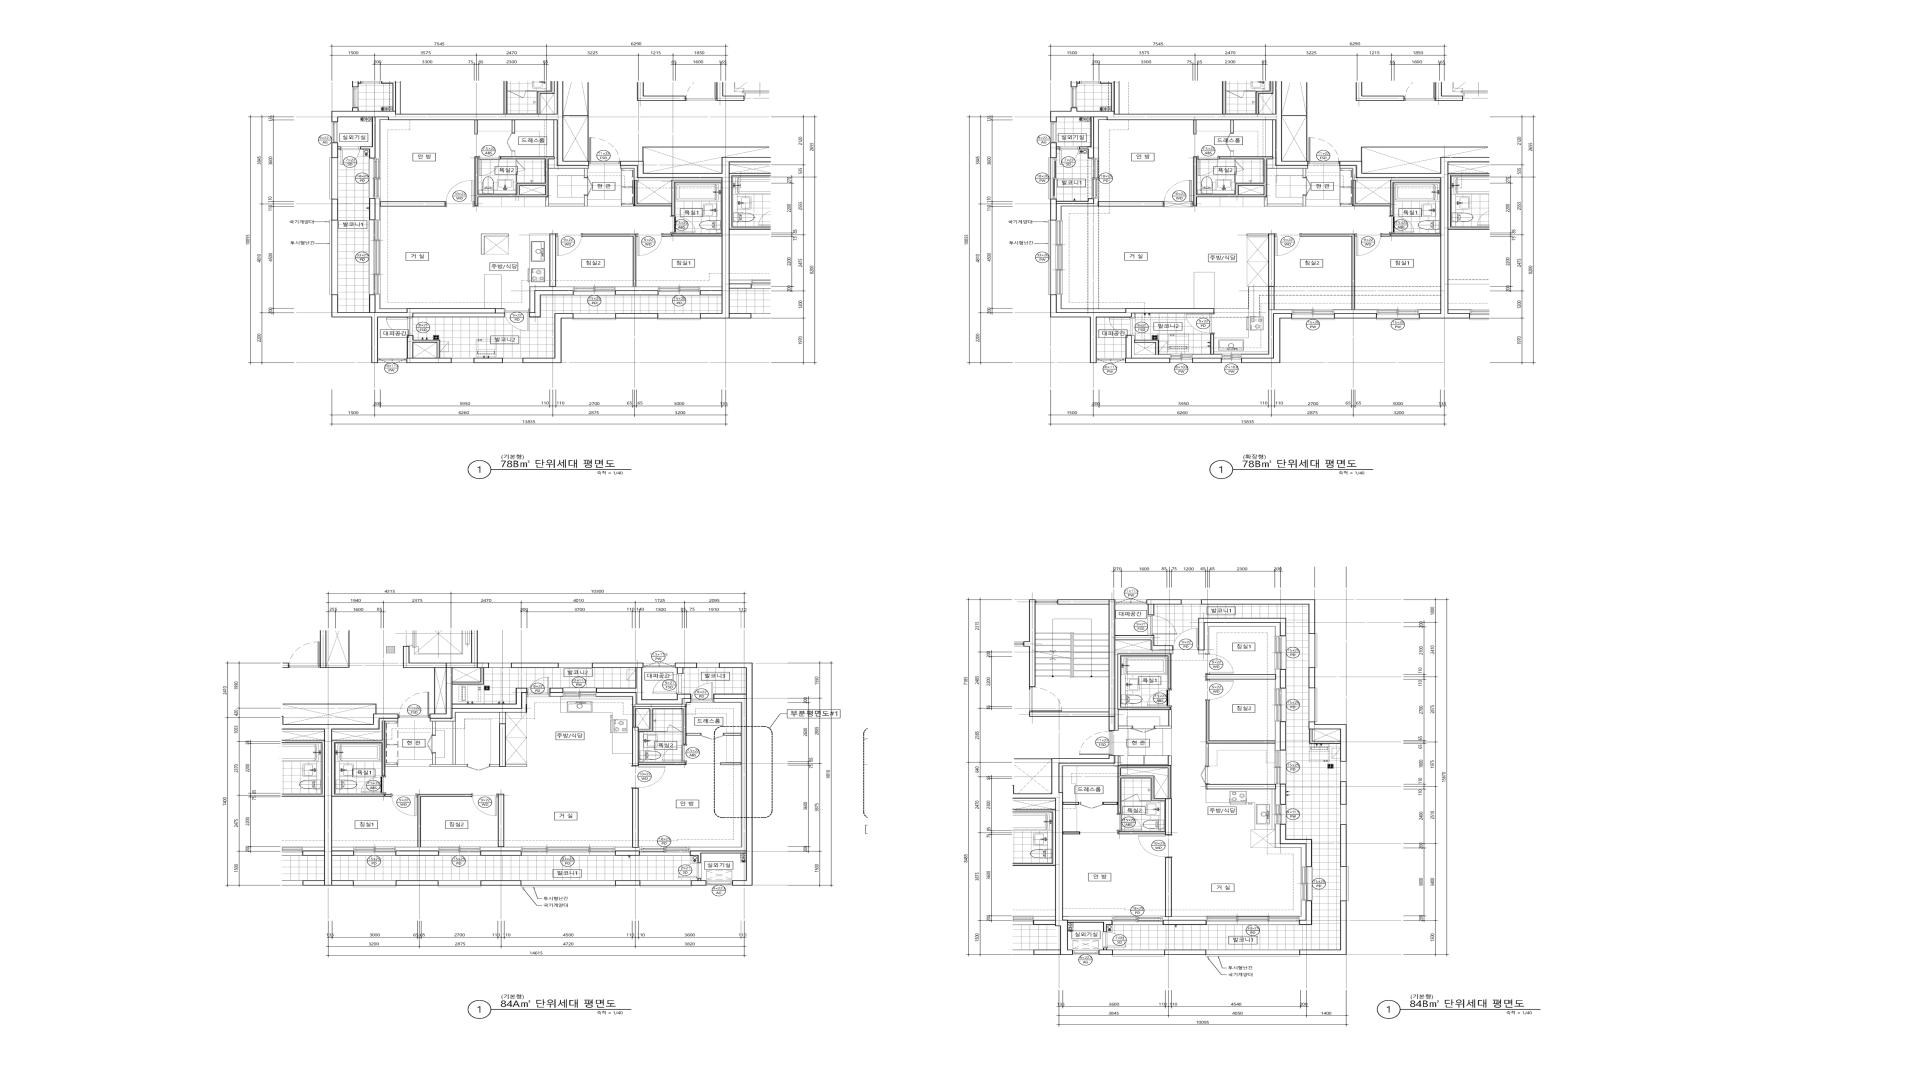door: (1308, 137, 1340, 164), (1029, 687, 1062, 712), (589, 137, 620, 164), (1163, 181, 1193, 207), (398, 692, 430, 717), (1080, 731, 1112, 756), (1138, 835, 1172, 857), (446, 181, 475, 207), (632, 766, 665, 789), (390, 794, 418, 816), (653, 674, 683, 694), (472, 794, 498, 816), (1172, 628, 1199, 650), (636, 233, 662, 256), (1275, 233, 1302, 256), (1356, 233, 1382, 256), (1205, 679, 1233, 700), (1185, 314, 1215, 334), (1147, 616, 1176, 636), (556, 233, 582, 256), (504, 309, 529, 331), (1205, 654, 1233, 674), (526, 676, 550, 696), (386, 318, 413, 335), (1109, 318, 1135, 335), (691, 683, 713, 703), (1118, 814, 1142, 832), (477, 157, 500, 175), (1197, 157, 1220, 175), (361, 777, 385, 794), (671, 216, 695, 233), (1390, 216, 1414, 233), (1147, 690, 1171, 707), (662, 745, 686, 762), (1102, 932, 1126, 948), (1059, 146, 1079, 165), (679, 862, 702, 878), (1225, 133, 1234, 152), (700, 733, 724, 740), (1133, 727, 1155, 733), (1080, 802, 1102, 808), (427, 735, 435, 753), (1201, 766, 1209, 785), (506, 133, 514, 152), (1121, 794, 1139, 802), (584, 178, 592, 195), (1303, 178, 1311, 195), (467, 765, 489, 770), (516, 160, 525, 171), (1234, 160, 1244, 171), (667, 725, 683, 732)
wall: (331, 82, 589, 166), (1051, 82, 1308, 166), (1029, 600, 1172, 731), (620, 157, 729, 319), (1340, 157, 1448, 319), (690, 663, 753, 886), (324, 713, 398, 886), (1055, 756, 1116, 955), (331, 294, 504, 363), (1051, 294, 1215, 363), (402, 646, 526, 719), (690, 699, 746, 851), (430, 692, 526, 766), (1102, 766, 1172, 835), (1205, 700, 1275, 766), (1116, 650, 1172, 731), (1302, 233, 1356, 310), (592, 663, 691, 704), (1193, 157, 1274, 206), (1201, 600, 1315, 634), (475, 157, 554, 206), (632, 707, 686, 766), (1117, 654, 1171, 709), (582, 233, 636, 286), (418, 794, 472, 847), (1199, 618, 1286, 650), (1199, 622, 1280, 654), (1241, 314, 1292, 363), (1300, 901, 1346, 955), (522, 314, 572, 363), (1241, 310, 1292, 357), (549, 120, 589, 178), (1267, 120, 1308, 178), (1059, 756, 1118, 793), (1308, 723, 1346, 762), (620, 166, 721, 181), (1340, 166, 1441, 181), (1280, 824, 1312, 866), (1056, 294, 1126, 313), (1275, 824, 1305, 866), (596, 694, 691, 707), (1125, 335, 1170, 363), (529, 290, 574, 318), (406, 335, 451, 363), (529, 286, 574, 313), (1282, 115, 1307, 161), (1051, 199, 1095, 220), (1131, 335, 1170, 359), (1056, 199, 1098, 220), (332, 719, 398, 732), (481, 233, 509, 255), (1029, 600, 1035, 687), (1146, 600, 1182, 616), (376, 294, 406, 313), (1269, 233, 1275, 310), (1095, 117, 1106, 158), (376, 117, 388, 158), (546, 195, 587, 207), (1265, 195, 1307, 206), (1166, 857, 1172, 916), (632, 789, 638, 848), (1205, 674, 1276, 679), (1205, 785, 1276, 790), (413, 343, 436, 359), (452, 669, 480, 682), (1134, 340, 1159, 355), (413, 314, 504, 318), (1097, 202, 1163, 207), (550, 233, 556, 286), (380, 202, 446, 207), (497, 794, 504, 847), (1299, 901, 1312, 926), (1155, 709, 1171, 729), (636, 709, 650, 729), (1340, 824, 1346, 866), (510, 663, 558, 669), (675, 663, 698, 674), (1163, 920, 1207, 926), (615, 290, 658, 295), (396, 851, 439, 856), (1335, 314, 1377, 319), (616, 314, 658, 319), (396, 881, 438, 886), (500, 724, 505, 766), (1164, 949, 1205, 955), (480, 851, 521, 856), (481, 881, 521, 886), (1063, 916, 1113, 920), (1163, 916, 1207, 920), (615, 286, 658, 290), (396, 847, 439, 851), (1335, 310, 1377, 314), (480, 847, 521, 851), (1280, 721, 1286, 750), (1275, 721, 1280, 750), (1192, 357, 1221, 363), (473, 357, 502, 363), (1340, 782, 1346, 804), (369, 198, 376, 220), (1050, 142, 1059, 158), (331, 142, 340, 158), (1308, 667, 1315, 688), (331, 199, 338, 220), (615, 851, 640, 856), (1299, 901, 1305, 920), (616, 881, 640, 886), (691, 878, 707, 886), (1192, 353, 1221, 357), (1280, 785, 1286, 804), (1275, 785, 1280, 804), (615, 847, 640, 851), (1280, 670, 1286, 688), (1275, 670, 1280, 688), (1098, 948, 1113, 955), (376, 198, 380, 220), (1419, 310, 1441, 314), (700, 286, 721, 290), (332, 847, 353, 851), (434, 669, 435, 713), (1247, 233, 1269, 236), (1211, 334, 1213, 353), (1230, 120, 1234, 133), (550, 692, 563, 696), (550, 688, 563, 692), (475, 120, 477, 135), (1193, 120, 1196, 135), (686, 733, 700, 736), (512, 120, 514, 133), (505, 765, 527, 766), (1168, 756, 1171, 766), (1230, 152, 1234, 157), (621, 204, 634, 206), (1340, 204, 1353, 206), (385, 765, 397, 766), (1234, 171, 1236, 183), (1131, 314, 1135, 318), (512, 152, 514, 157), (516, 171, 517, 182), (1139, 800, 1150, 802), (489, 765, 500, 766), (653, 732, 667, 732)
window: (1048, 220, 1063, 294), (521, 847, 615, 856), (1207, 916, 1299, 926), (369, 220, 380, 294), (1205, 949, 1300, 956), (521, 881, 616, 887), (330, 220, 338, 295), (640, 847, 690, 856), (1113, 916, 1163, 926), (1377, 310, 1419, 320), (1292, 310, 1335, 320), (369, 158, 380, 198), (658, 286, 700, 295), (353, 847, 396, 856), (574, 286, 615, 295), (439, 847, 480, 856), (1302, 866, 1312, 901), (1275, 750, 1286, 785), (1275, 636, 1286, 670), (1275, 688, 1286, 721), (1113, 949, 1164, 956), (640, 881, 691, 887), (330, 158, 338, 199), (1048, 158, 1056, 199), (1308, 688, 1317, 723), (1340, 866, 1349, 901), (1308, 634, 1317, 667), (572, 314, 616, 320), (438, 881, 481, 887), (658, 314, 700, 320), (353, 881, 396, 887), (1092, 158, 1098, 199), (563, 688, 596, 696), (1275, 804, 1286, 824), (1170, 353, 1192, 363), (1221, 353, 1241, 363), (558, 663, 592, 669), (644, 662, 675, 667), (1116, 599, 1146, 604), (378, 359, 407, 364), (1097, 359, 1125, 364), (331, 123, 338, 142), (1340, 762, 1346, 782), (1340, 804, 1346, 824), (451, 357, 473, 363), (502, 357, 522, 363), (1051, 123, 1056, 142), (707, 881, 732, 885), (1073, 951, 1098, 955), (1035, 600, 1058, 604), (698, 663, 719, 667), (489, 663, 510, 667), (1182, 600, 1201, 604)
